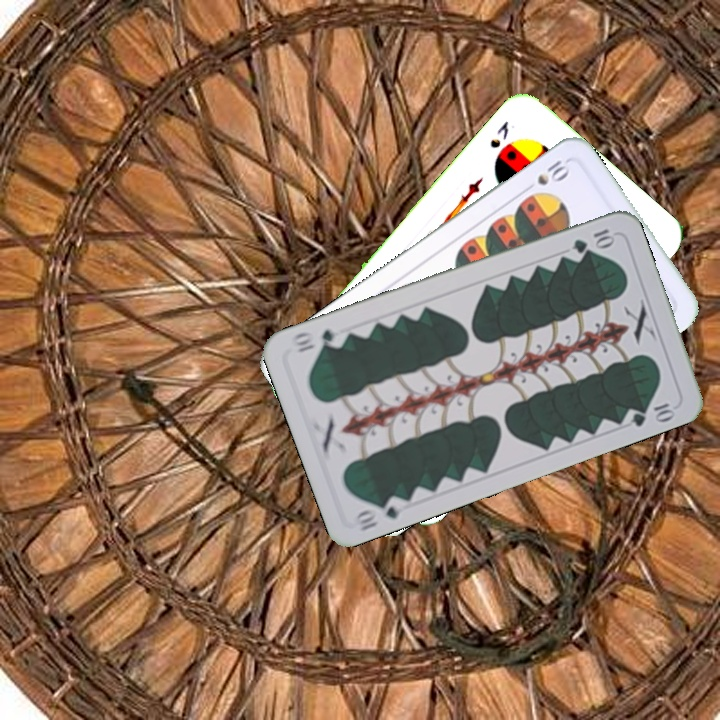G10: (352, 492, 409, 533), (568, 224, 617, 256)
S10: (519, 152, 573, 195)
SK: (485, 117, 512, 151)
